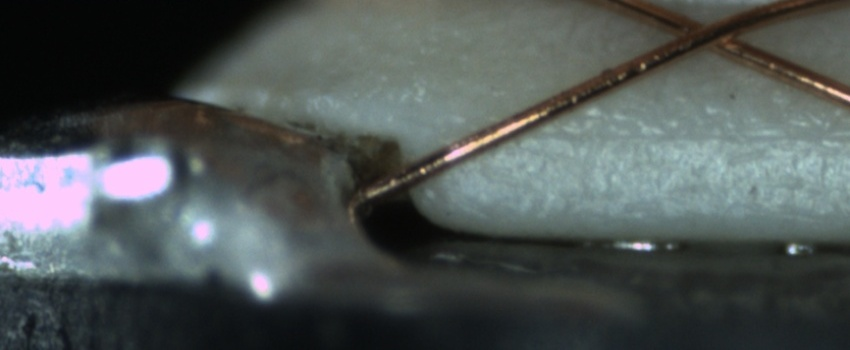CL: (648, 6, 766, 59)
DL: (476, 103, 850, 167)
